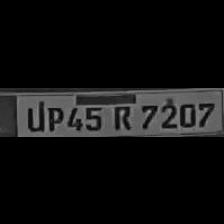0: (176, 100, 196, 126)
2: (157, 99, 177, 127)
4: (65, 102, 81, 131)
5: (82, 102, 104, 130)
7: (136, 101, 156, 129), (194, 100, 214, 126)
P: (43, 102, 62, 131)
R: (108, 102, 134, 130)
U: (22, 102, 44, 131)
